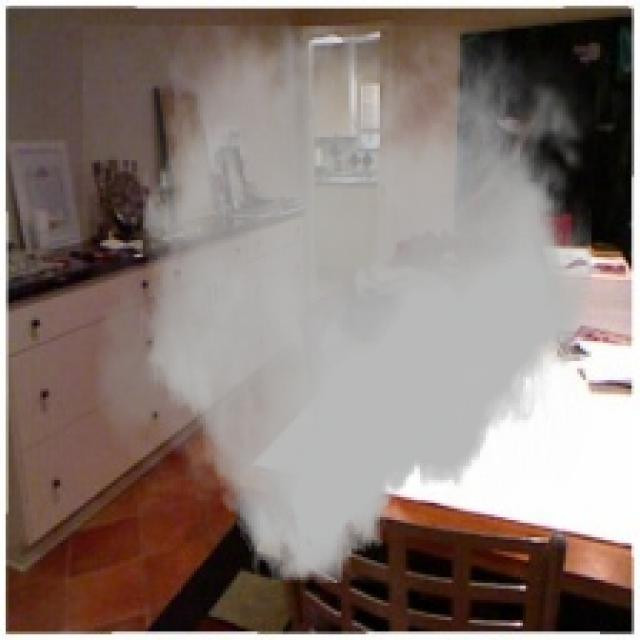smoke: (83, 26, 600, 583)
